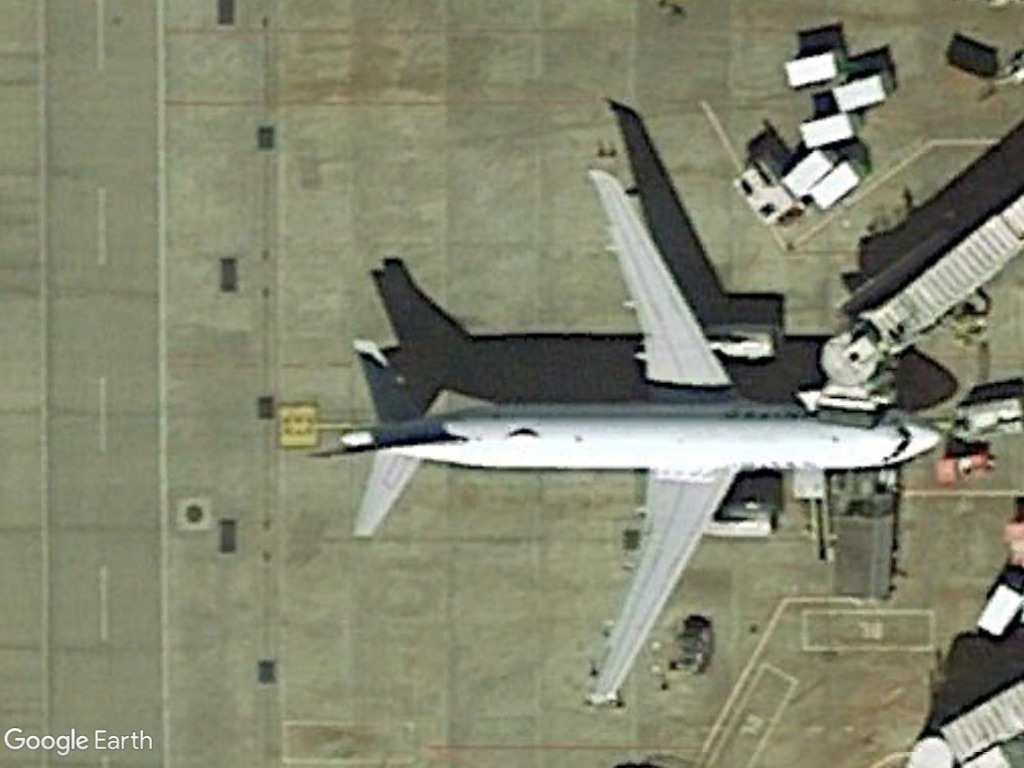airliner: (335, 163, 948, 711)
